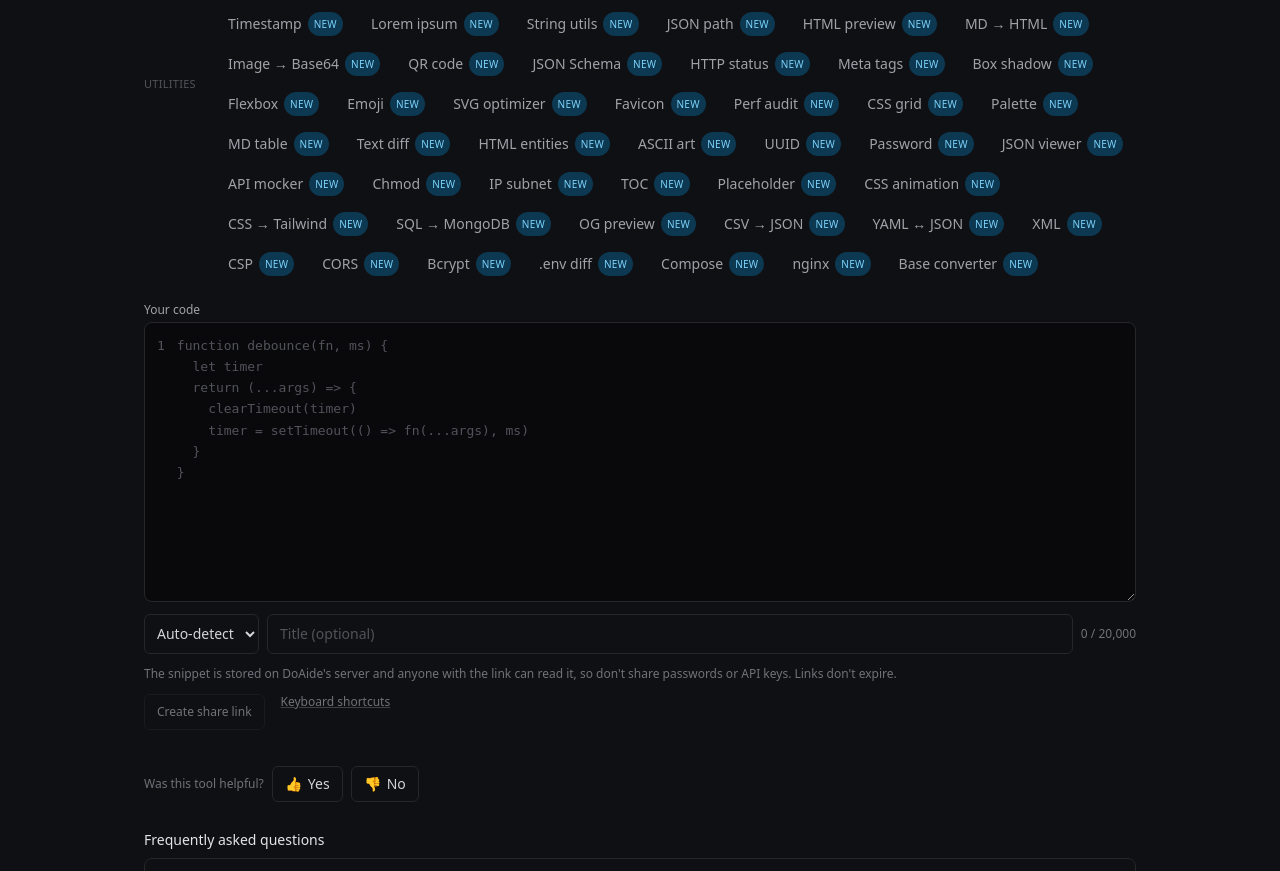
Scenario: SharePage › creates a link and shows it with copy and WhatsApp buttons
(page scrolled)
Check: the button with test id "share-run" is disabled, box x1=144 y1=694 x2=264 y2=730
Replace the text in the text box with test id "share-code" with "x = 1" at (654, 462), box x1=173 y1=323 x2=1135 y2=600
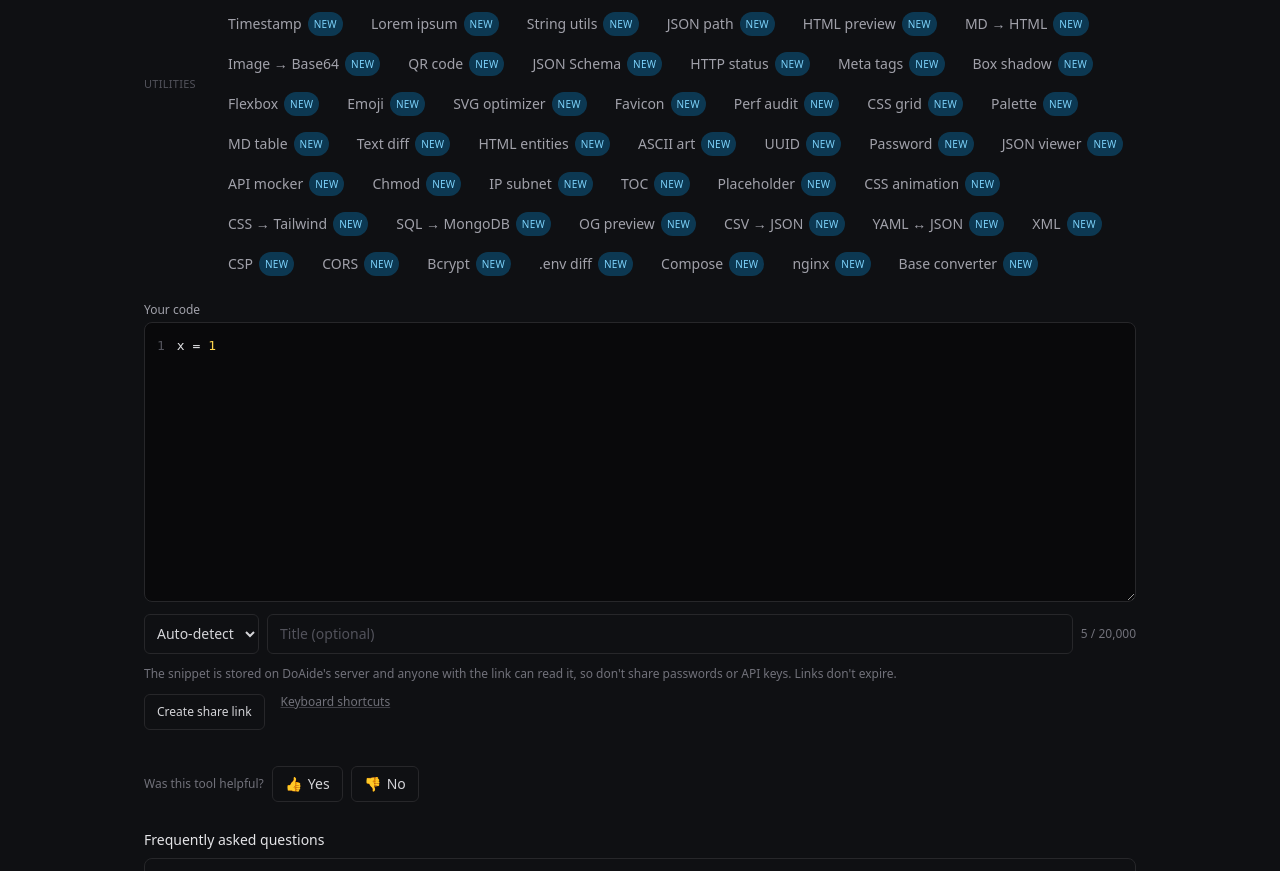
Click the button with test id "share-run" at (204, 712), box x1=144 y1=694 x2=264 y2=730
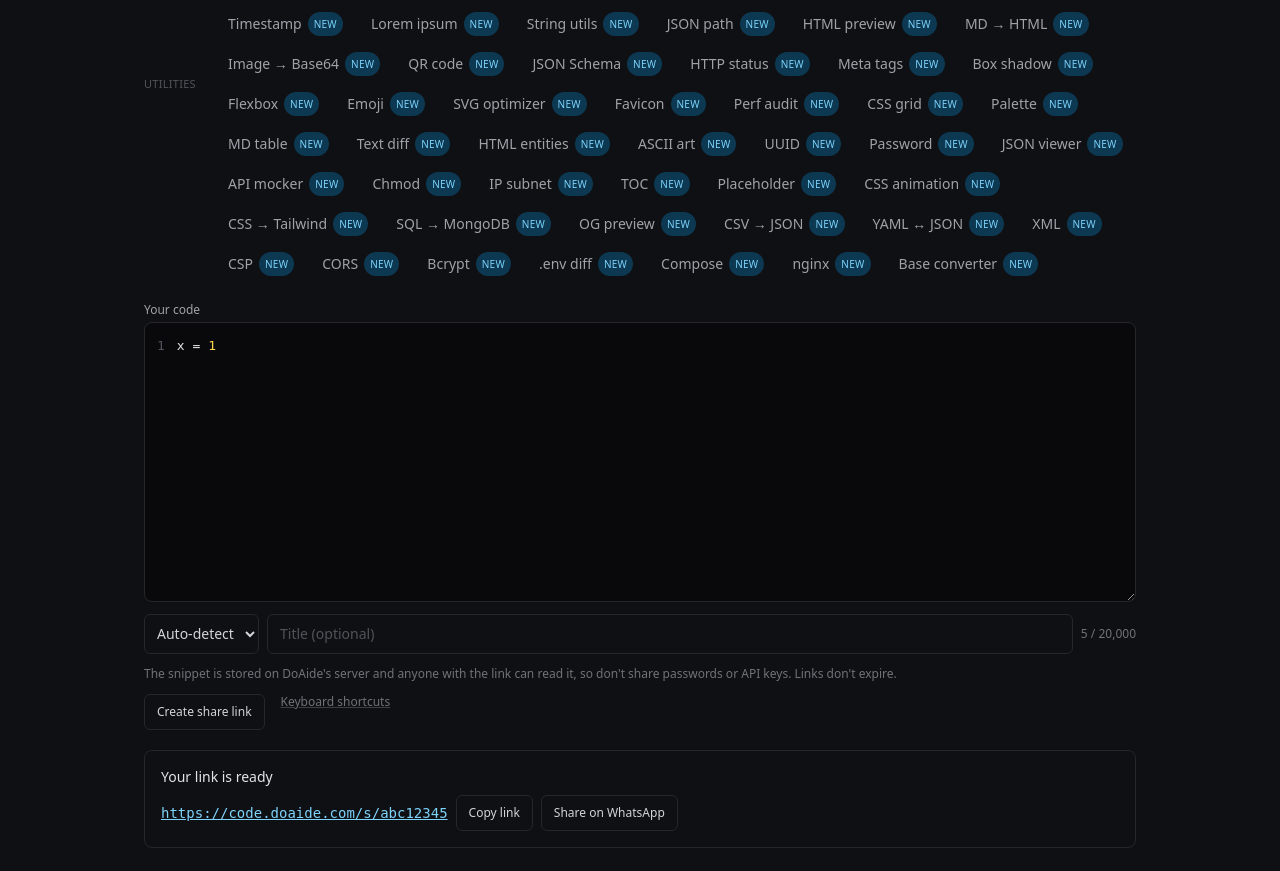
Check: the link with test id "share-link" shows "/s/abc12345", box x1=161 y1=802 x2=448 y2=822
Check: the button with test id "share-copy" is shown, box x1=456 y1=794 x2=533 y2=830
